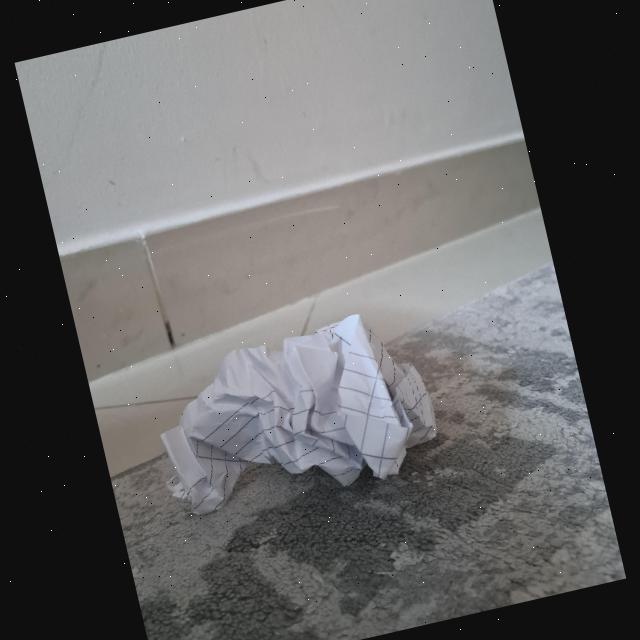trash: (128, 296, 454, 524)
